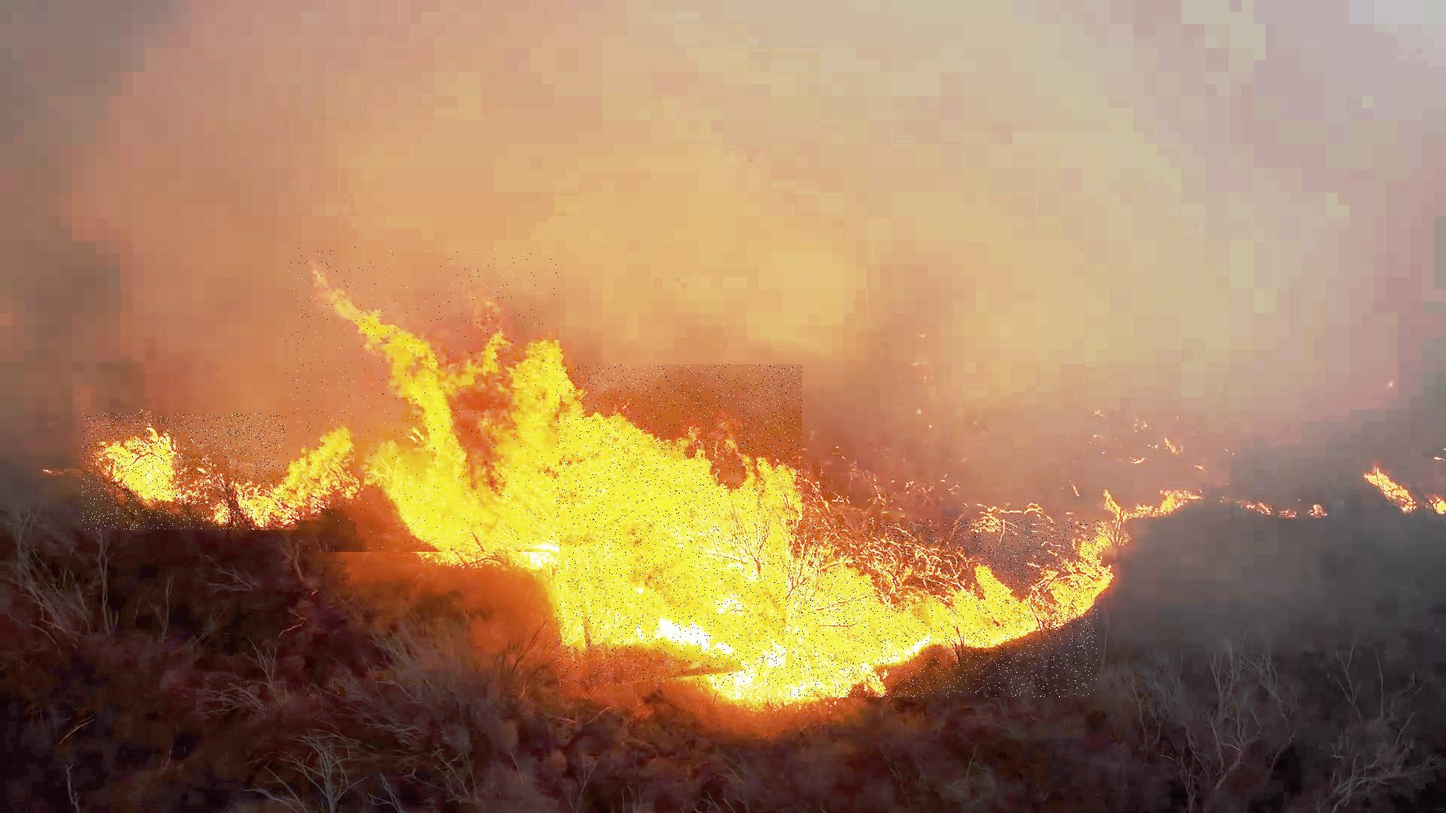fire: (285, 247, 559, 552), (556, 364, 802, 686), (786, 519, 1098, 697), (82, 413, 326, 530)
